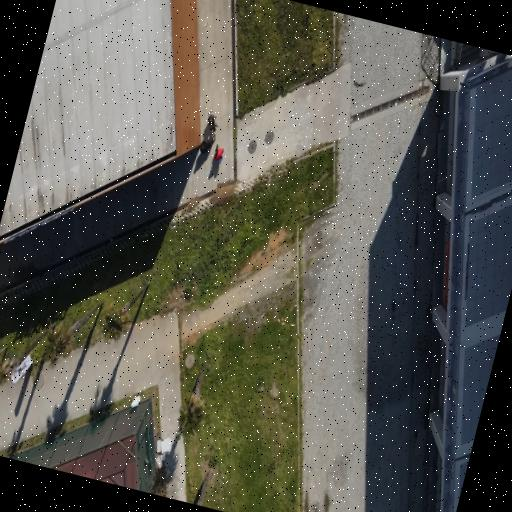person: (199, 135, 213, 153), (207, 111, 217, 131), (212, 144, 223, 162)
